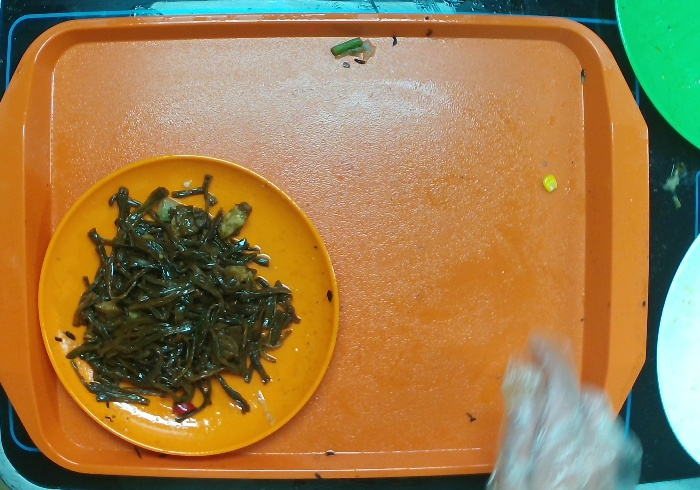HZYJPL-Ju_Huang_Yuan_Pan: (38, 151, 342, 458)
